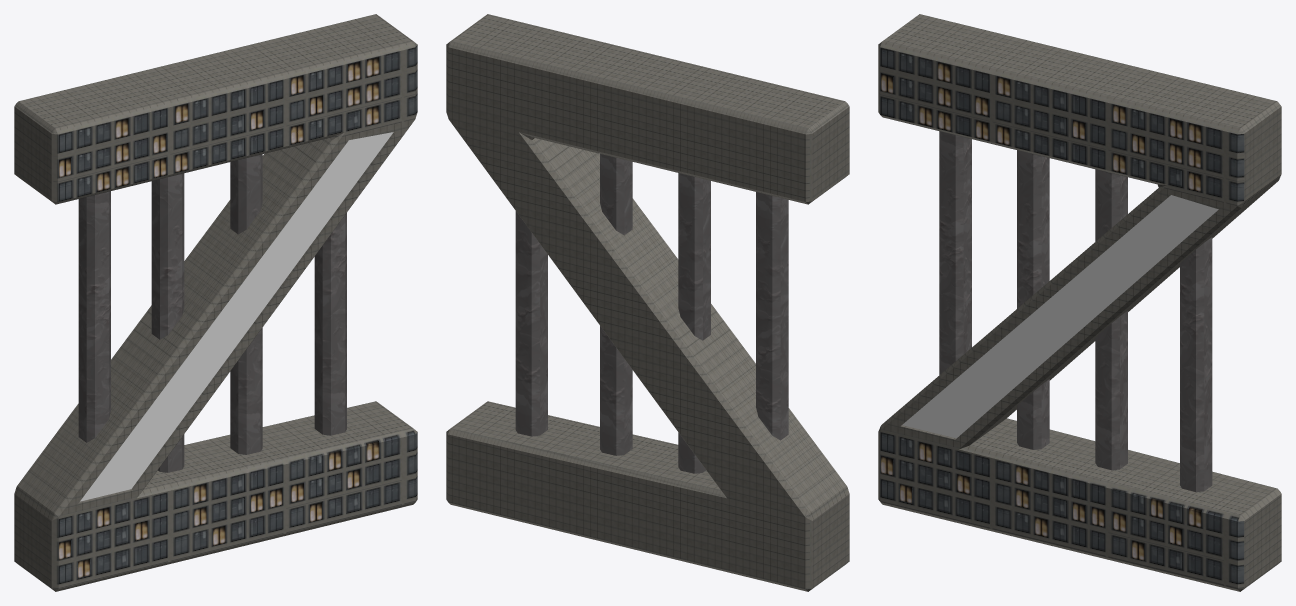
The picture shows the model from 3 angles, left to right: view 1: azimuth 30°, elevation 25°; view 2: azimuth 150°, elevation 25°; view 3: azimuth 330°, elevation 25°; orthographic projection.
Visible parts, largest first — view 1: Cube, Cube.004; view 2: Cube; view 3: Cube, Cube.004.
Boxes of the visible parts, x1,y1,x2,y2 form: Cube: (14, 14, 417, 591); Cube.004: (80, 132, 393, 501); Cube: (446, 14, 849, 591); Cube: (878, 14, 1281, 591); Cube.004: (902, 195, 1218, 438).
Size of the model in its own units: 1008 by 1219 by 200.
3 materials, 2 textured.
